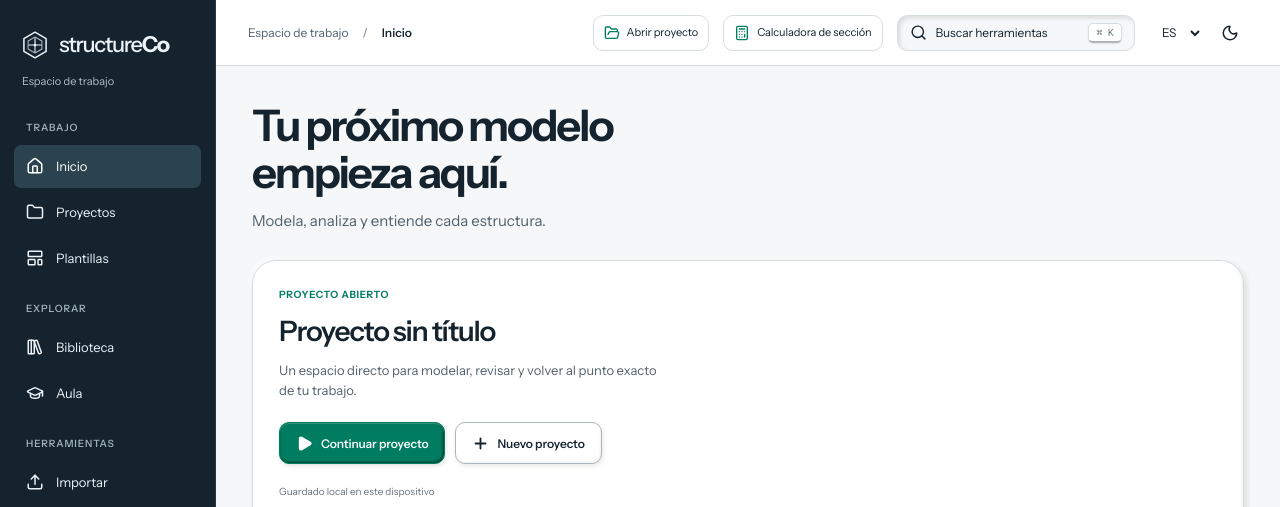
Test: WelcomeScreen · arquitectura nueva › mantiene importar archivo, DXF y Aula en superficies propias
The width and height of the screenshot is (1280, 507).
Click the button "Importar" at (108, 482), box [14, 460, 201, 504]
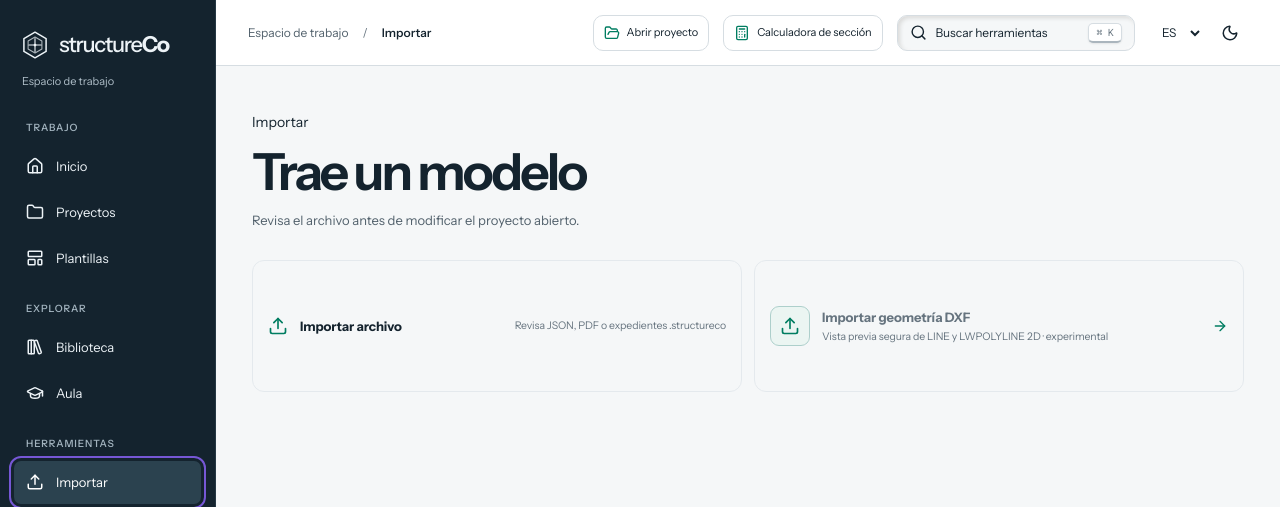
Expected: the button "Importar archivo Revisa JSON, PDF o expedientes .structureco" is shown, [252, 260, 742, 392]
Expected: the button "DXF" is shown, [754, 260, 1244, 392]
Click the button "Aula" at (108, 393), box [14, 372, 201, 414]
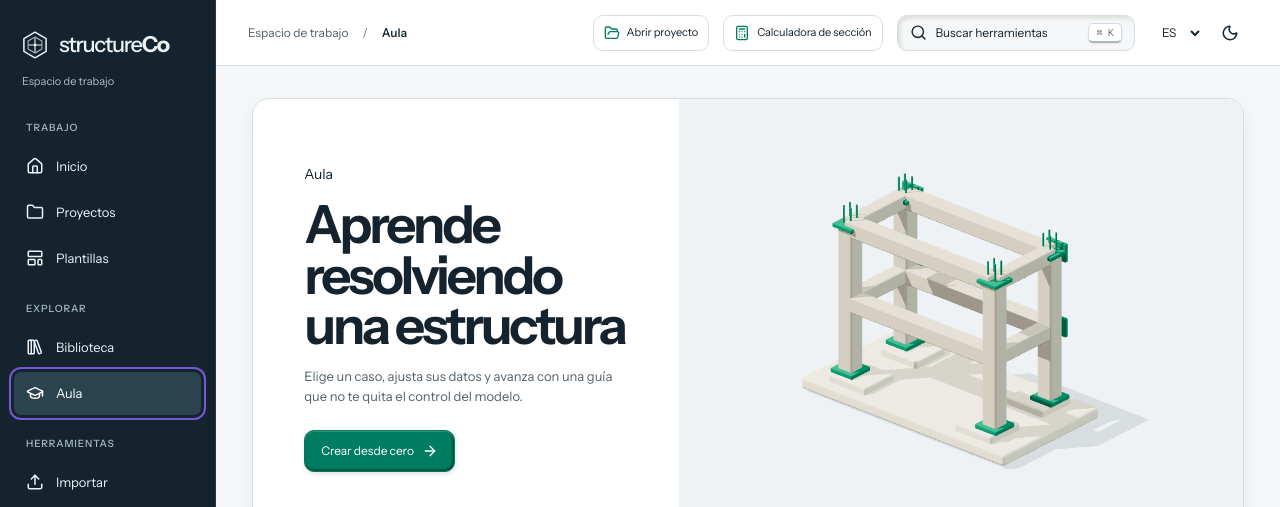
Expected: the button "Crear desde cero" is shown, [304, 430, 455, 472]
